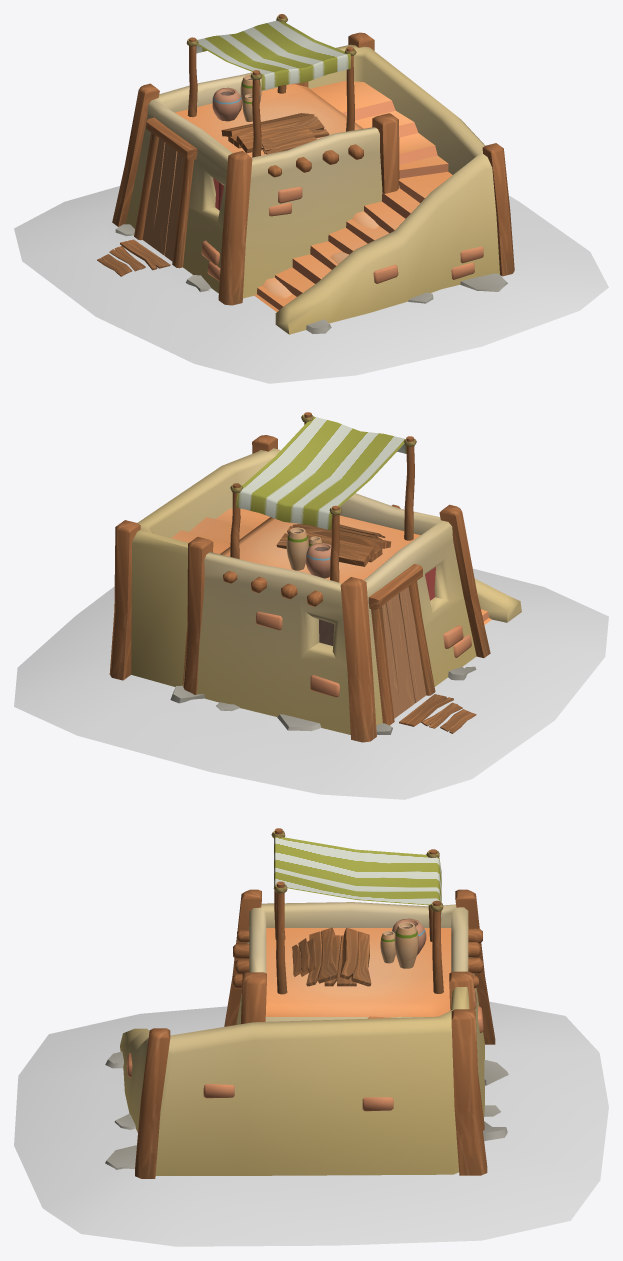
File: DesertHouse-02.fbx
3 views of the same model, one above another, from view 1: azimuth 30°, elevation 25°; view 2: azimuth 150°, elevation 25°; view 3: azimuth 270°, elevation 25° (orthographic). The views are drawn at different scales.
Visible parts, largest first — view 1: DesertHouse-02; view 2: DesertHouse-02; view 3: DesertHouse-02.
Part boxes in pixels (bbox=[...]): DesertHouse-02: bbox=[14, 14, 608, 383]; DesertHouse-02: bbox=[14, 412, 608, 799]; DesertHouse-02: bbox=[14, 828, 608, 1246].
Size of the model in its own units: 3.73 by 1.78 by 3.79.
